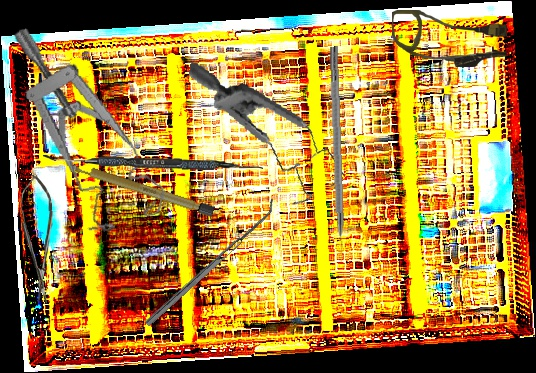Cannula: (392, 10, 507, 67)
Hook Surgical: (326, 46, 346, 265)
Micro Scissor: (20, 174, 55, 305)
Scalpel Handle: (68, 160, 216, 217)
Spatula Surgical: (140, 198, 281, 327), (42, 155, 264, 171)
Speculum: (11, 10, 170, 242), (169, 62, 359, 212)
